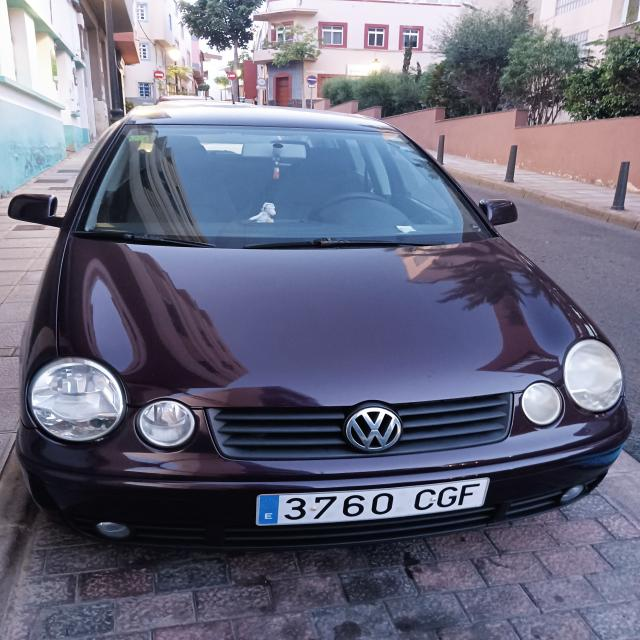football: (257, 479, 488, 527)
